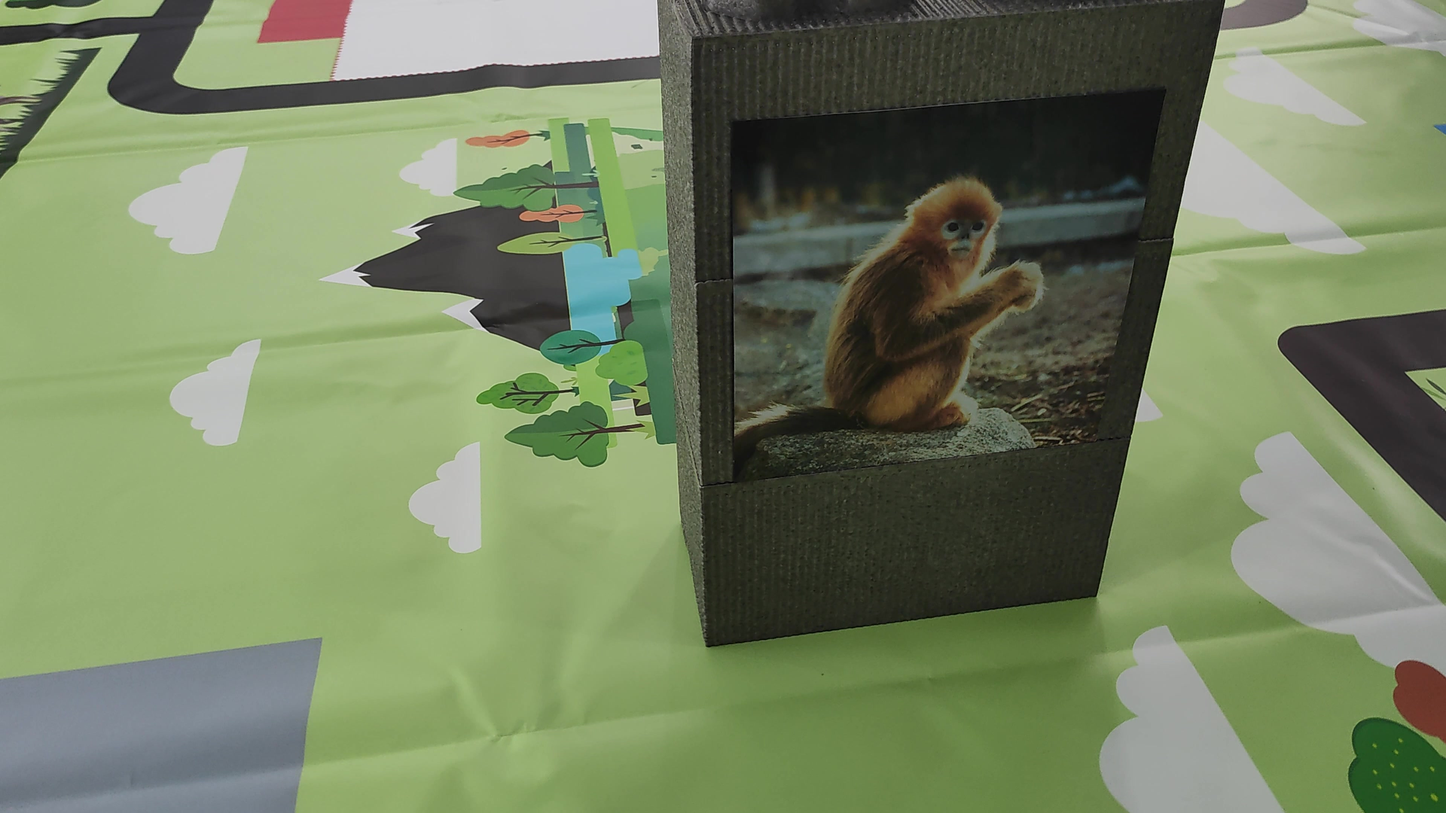monkey: (806, 152, 1081, 429)
